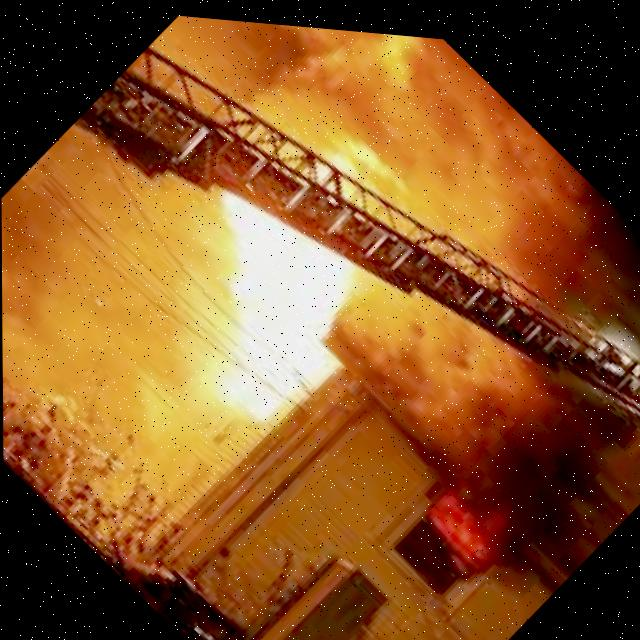Fire: (104, 43, 511, 480)
Smoke: (127, 9, 640, 548)
